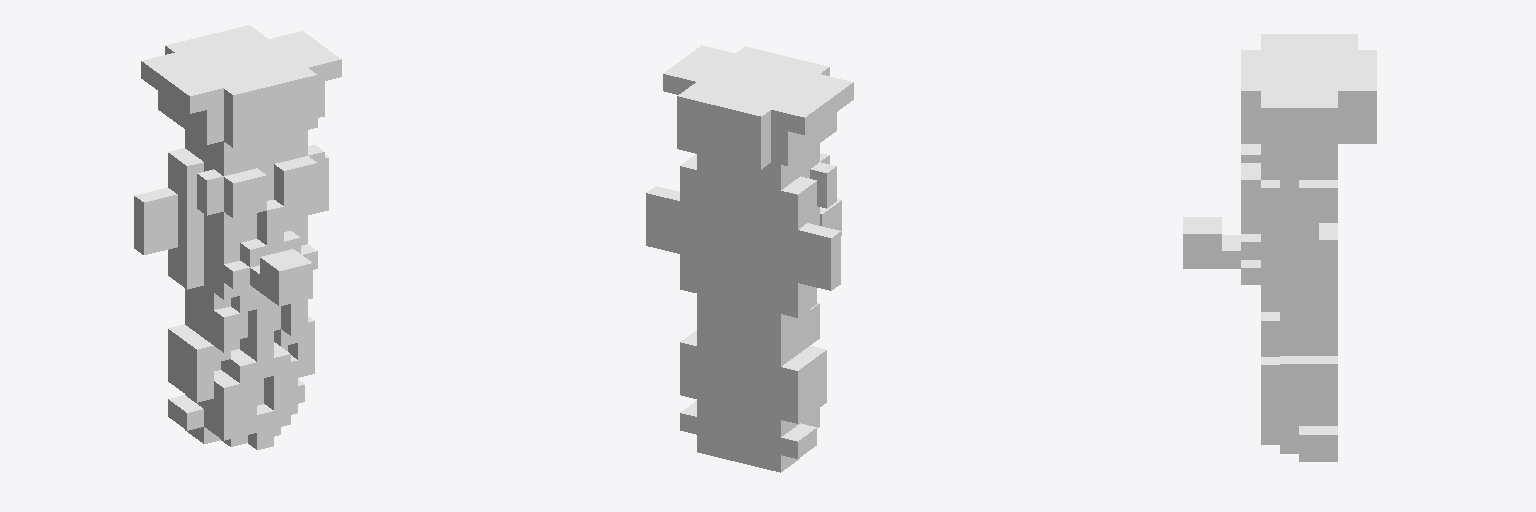
Rendered from Capitain-4.obj.
3 views of the same model, side by side, from view 1: azimuth 30°, elevation 25°; view 2: azimuth 150°, elevation 25°; view 3: azimuth 270°, elevation 25° (orthographic).
Visible parts, largest first — view 1: object 1; view 2: object 1; view 3: object 1.
Boxes of the visible parts, box(x1,y1,x2,y2) form: object 1: box(134, 25, 341, 449); object 1: box(646, 45, 853, 472); object 1: box(1183, 34, 1376, 461).
Bounding box in the file's own units: 1.1 × 2.1 × 1.